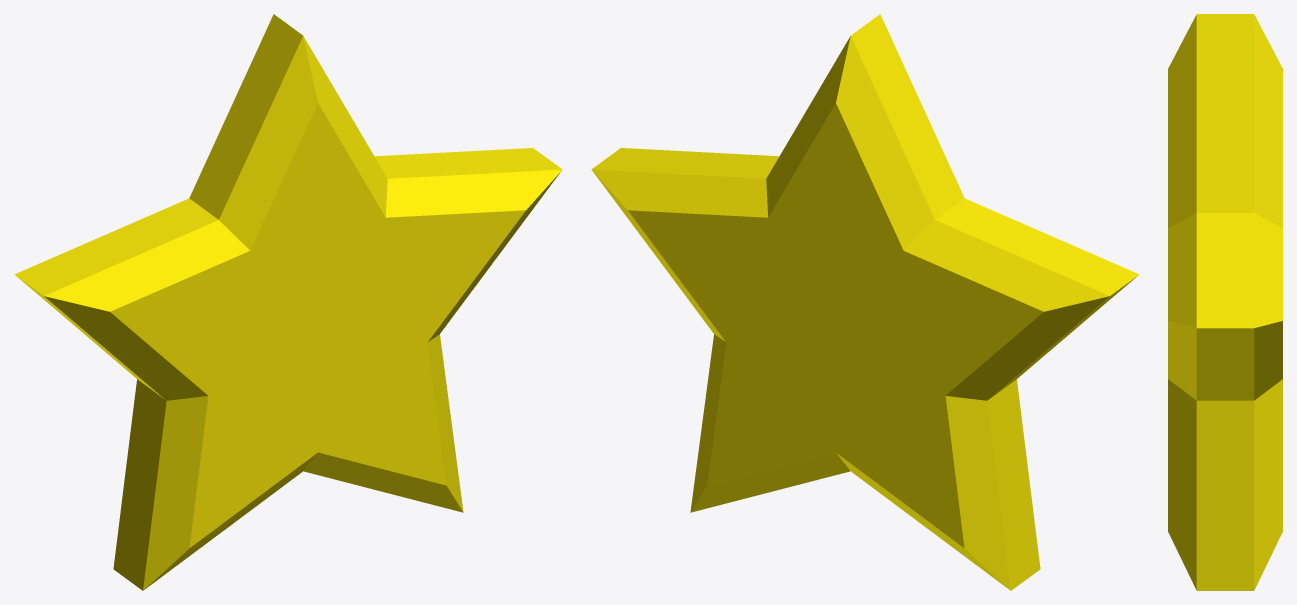
Rendered from star.fbx.
3 renders of one model, left to right at view 1: azimuth 30°, elevation 25°; view 2: azimuth 150°, elevation 25°; view 3: azimuth 270°, elevation 25°, orthographic. The views are drawn at different scales.
Parts seen in each view (by area): view 1: star; view 2: star; view 3: star.
Part boxes in pixels (left/top/right/bottom): star: left=14, top=14, right=562, bottom=590; star: left=591, top=14, right=1139, bottom=590; star: left=1168, top=14, right=1282, bottom=590.
Bounding box in the file's own units: 24.42 × 23.23 × 4.82.
